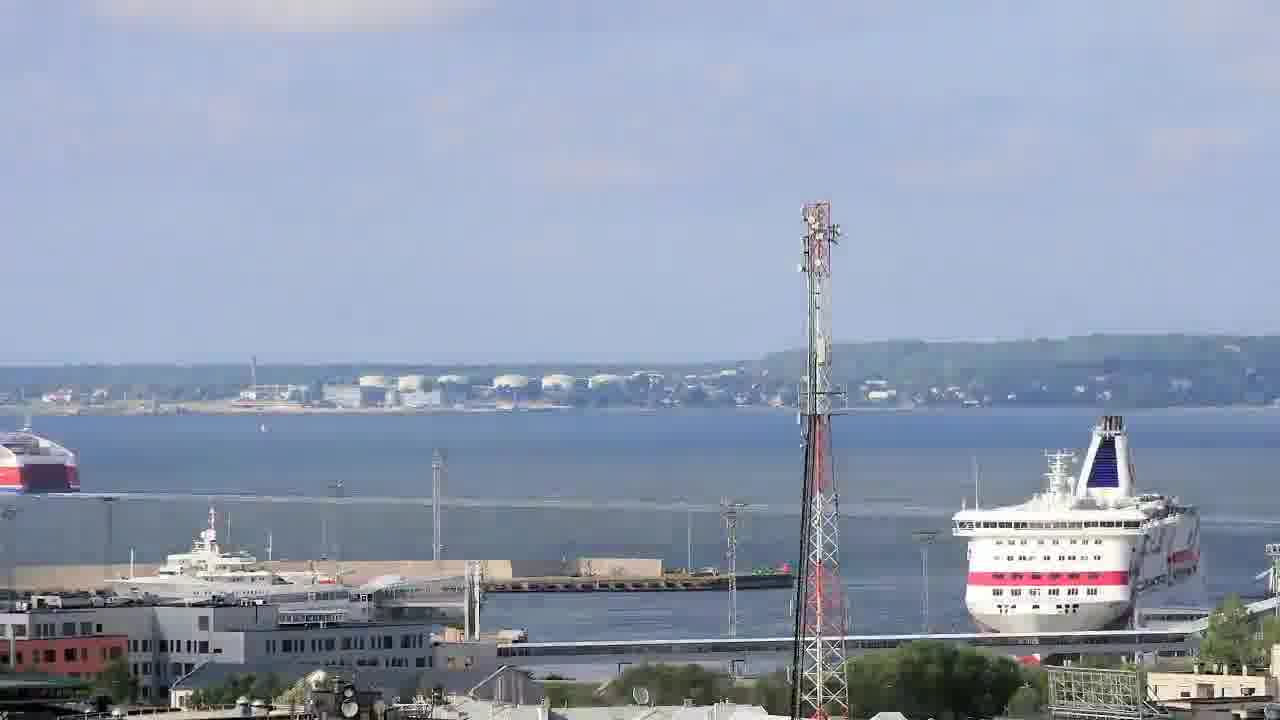type-3: (949, 413, 1211, 638), (89, 518, 402, 620), (0, 380, 86, 504)
